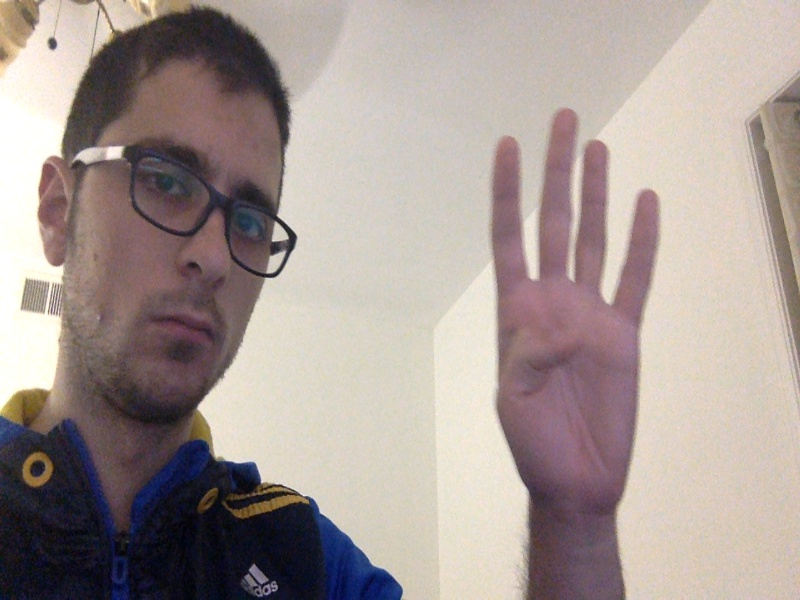4-hand: (489, 109, 662, 511)
